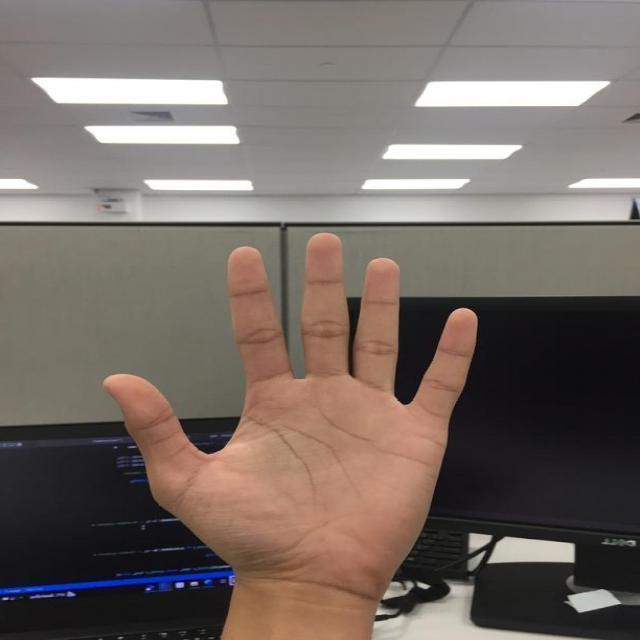hand: (99, 232, 495, 576)
